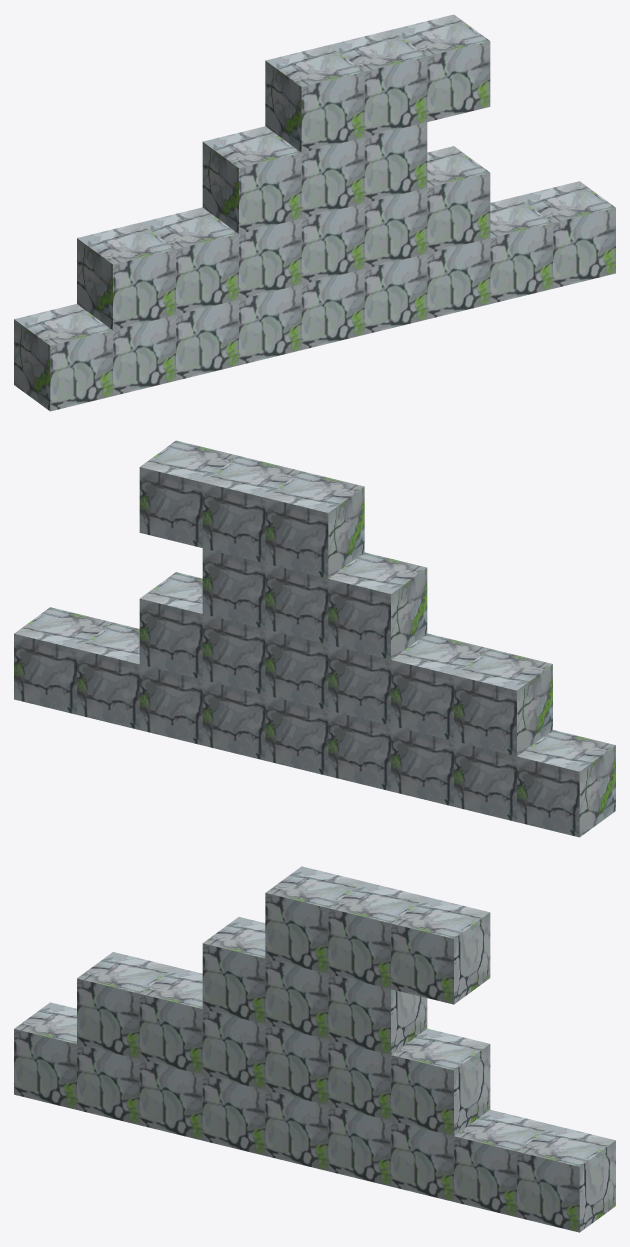
File: BrickWall7.fbx
3 views of the same model, one above another, from view 1: azimuth 30°, elevation 25°; view 2: azimuth 150°, elevation 25°; view 3: azimuth 330°, elevation 25° (orthographic).
Parts seen in each view (by area): view 1: pCube123; view 2: pCube123; view 3: pCube123.
Part boxes in pixels (left/top/right/bottom): pCube123: left=14, top=14, right=615, bottom=411; pCube123: left=14, top=440, right=615, bottom=837; pCube123: left=14, top=866, right=615, bottom=1232.
Bounding box in the file's own units: 3600 × 1600 × 400.
